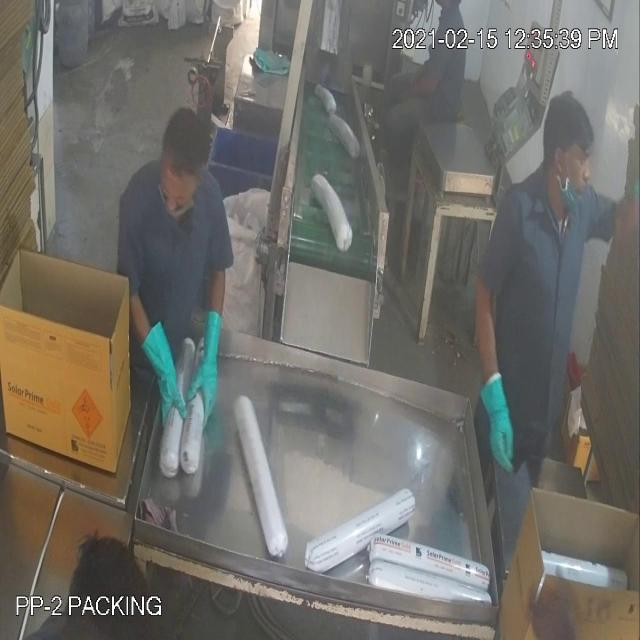gloves: (136, 302, 186, 438), (186, 298, 227, 437), (474, 354, 518, 481)
